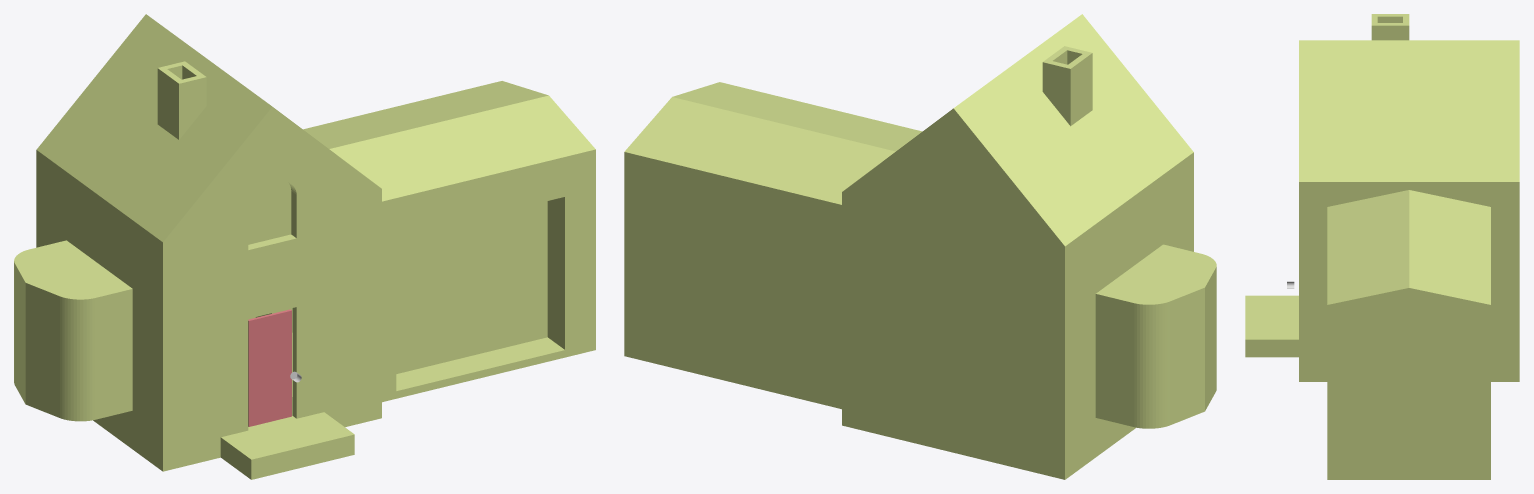
Rendered from simple_house.glb.
3 views of the same model, side by side, from view 1: azimuth 30°, elevation 25°; view 2: azimuth 150°, elevation 25°; view 3: azimuth 270°, elevation 25° (orthographic). The views are drawn at different scales.
Visible parts, largest first — view 1: house, door; view 2: house; view 3: house.
Boxes of the visible parts, left/top/right/bottom form: house: left=14, top=14, right=595, bottom=479; door: left=248, top=309, right=291, bottom=426; house: left=624, top=14, right=1216, bottom=479; house: left=1245, top=14, right=1519, bottom=479.
Bounding box in the file's own units: 18.08 × 11.33 × 9.4.
